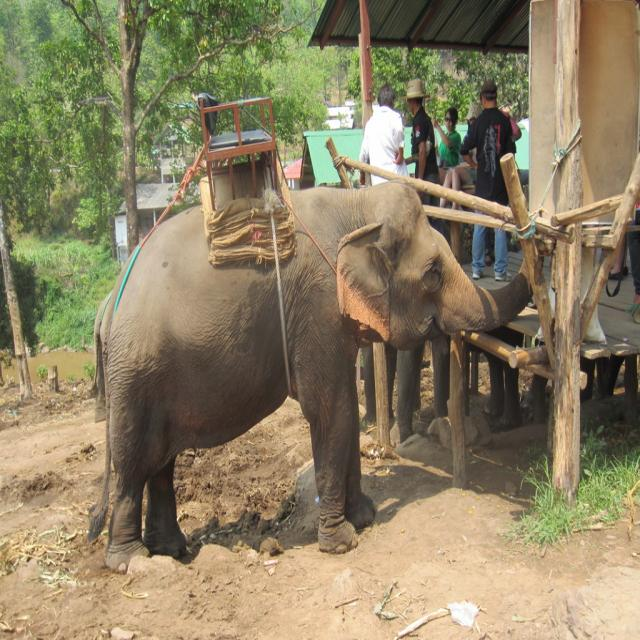elephant: (89, 173, 543, 570)
